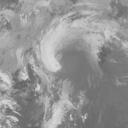cyclone: (39, 35, 88, 76)
